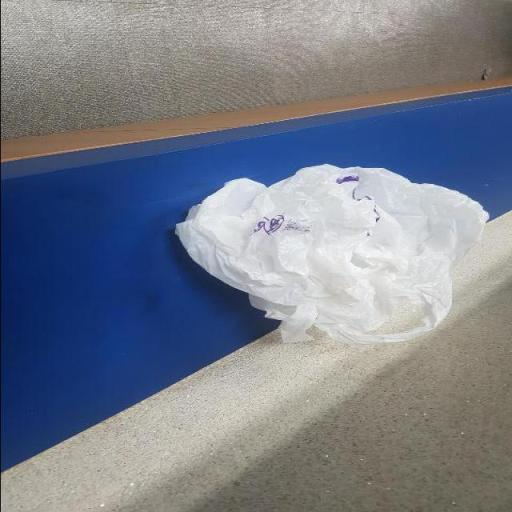plastic-bag: (166, 164, 495, 348)
